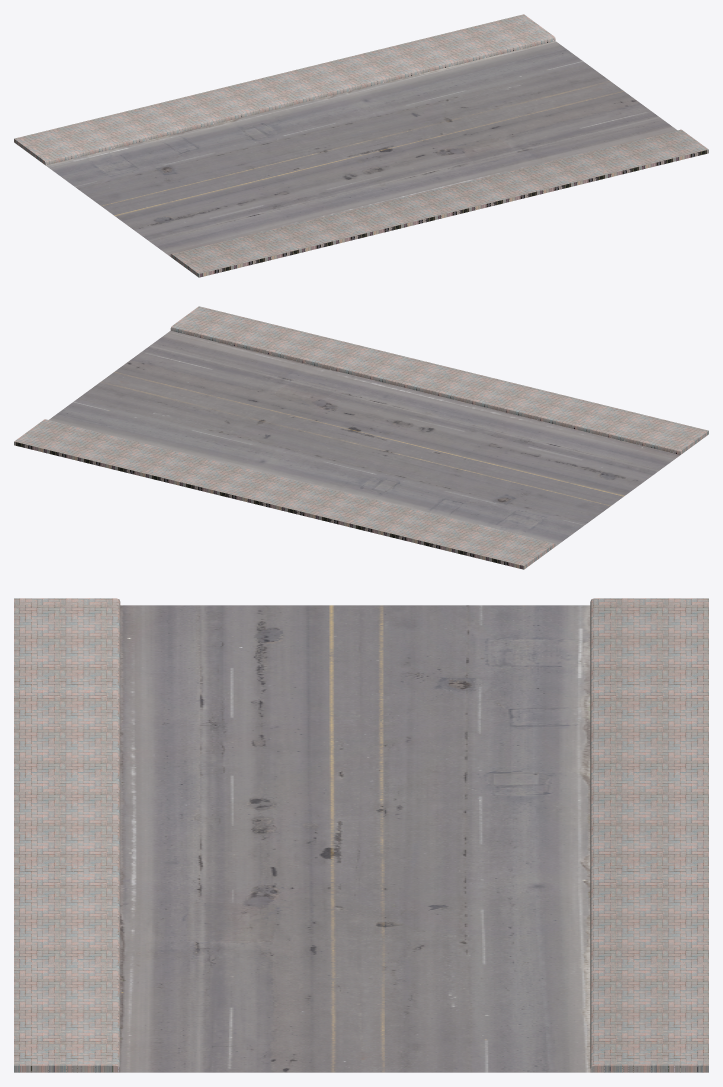
The model's file is Road.FBX.
3 views of the same model, one above another, from view 1: azimuth 30°, elevation 25°; view 2: azimuth 150°, elevation 25°; view 3: azimuth 270°, elevation 25° (orthographic). The views are drawn at different scales.
Visible parts, largest first — view 1: Plane001; view 2: Plane001; view 3: Plane001.
Part boxes in pixels (left/top/right/bottom): Plane001: left=14, top=14, right=708, bottom=277; Plane001: left=14, top=306, right=708, bottom=569; Plane001: left=14, top=598, right=708, bottom=1072.
Bounding box in the file's own units: 31.46 × 0.2174 × 19.76.
